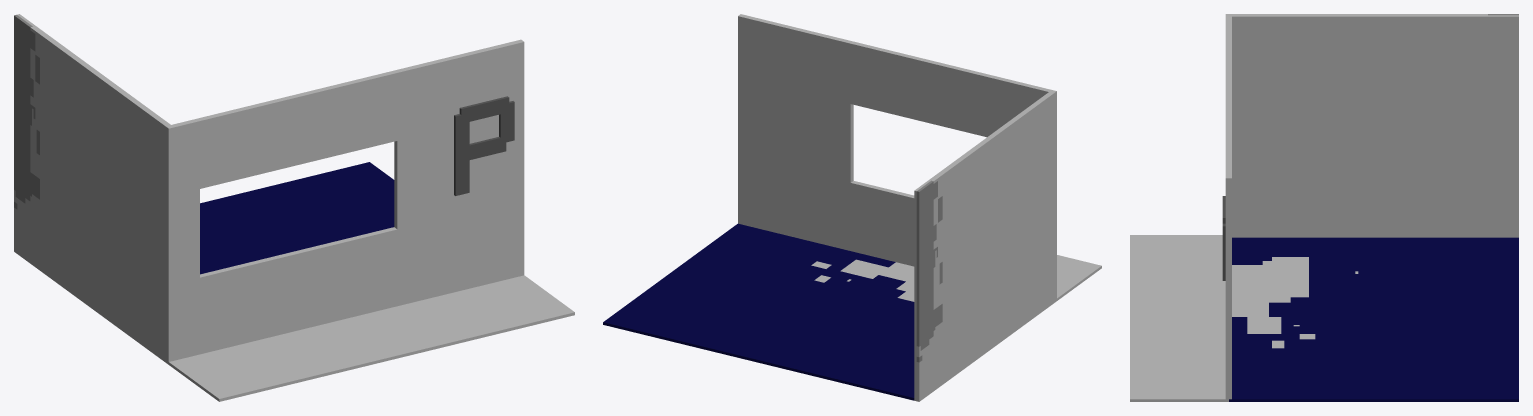
The model's file is 2x2 second (1)-1.obj.
The picture shows the model from 3 angles, left to right: view 1: azimuth 30°, elevation 25°; view 2: azimuth 150°, elevation 25°; view 3: azimuth 270°, elevation 25°; orthographic projection. The views are drawn at different scales.
Parts seen in each view (by area): view 1: 2x2 second (1)-1; view 2: 2x2 second (1)-1; view 3: 2x2 second (1)-1.
Part boxes in pixels (left/top/right/bottom): 2x2 second (1)-1: left=14, top=14, right=574, bottom=401; 2x2 second (1)-1: left=603, top=14, right=1101, bottom=401; 2x2 second (1)-1: left=1130, top=14, right=1518, bottom=401.
Size of the model in its own units: 126 by 80 by 126.
1 material, 1 textured.
